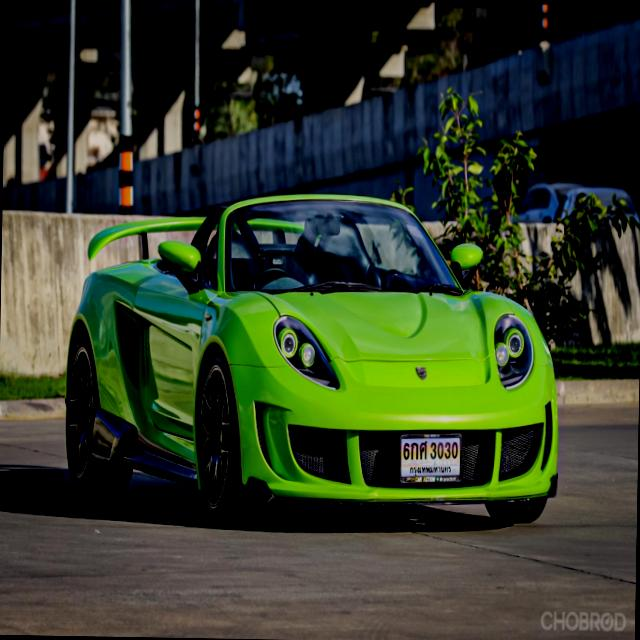license_plate: (397, 430, 462, 484)
